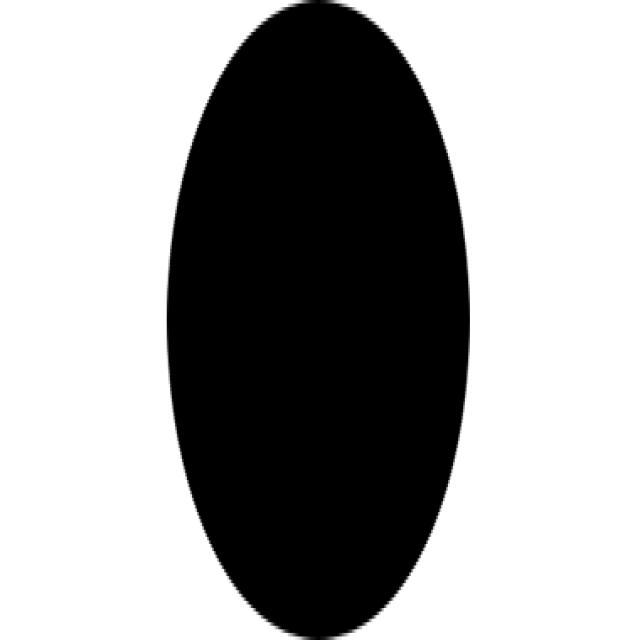Circle: (168, 5, 469, 635)
